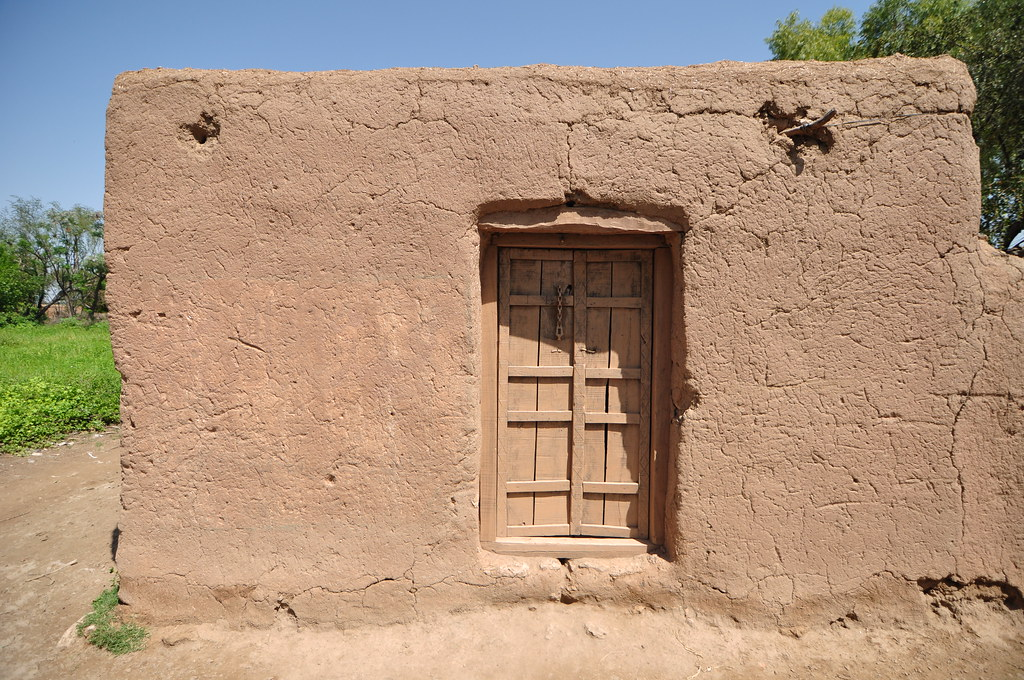Mud House: (77, 56, 995, 622)
